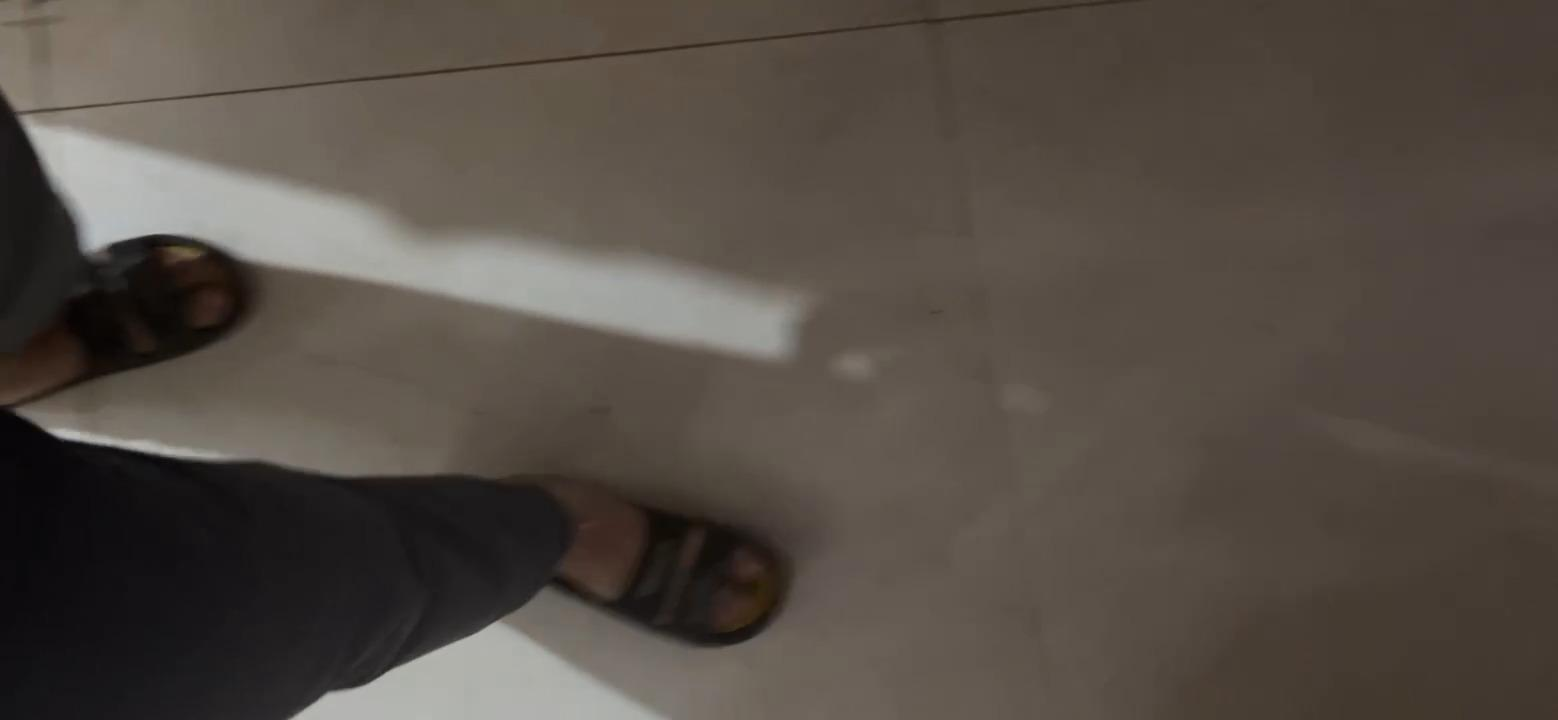no-boot: (531, 463, 797, 655), (17, 217, 246, 400)
